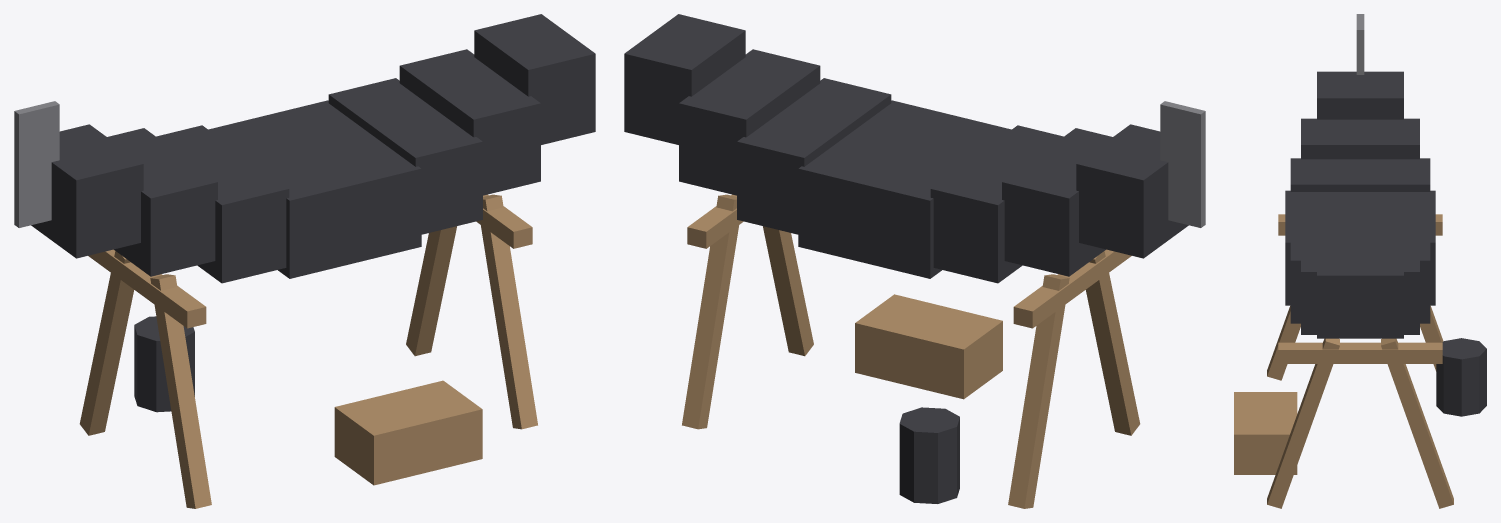
Rendered from VN_Caballete.fbx.
3 views of the same model, side by side, from view 1: azimuth 30°, elevation 25°; view 2: azimuth 150°, elevation 25°; view 3: azimuth 270°, elevation 25° (orthographic). The views are drawn at different scales.
Parts seen in each view (by area): view 1: VN_Caballete; view 2: VN_Caballete; view 3: VN_Caballete.
Part boxes in pixels (<box>): VN_Caballete: <box>14,14,595,508</box>; VN_Caballete: <box>624,14,1205,508</box>; VN_Caballete: <box>1234,14,1486,508</box>.
Size of the model in its own units: 4.06 by 2.73 by 2.
